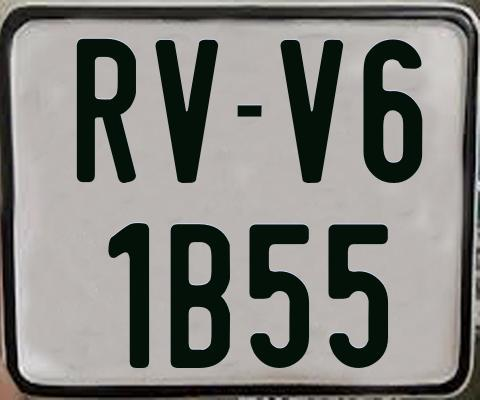1: (108, 221, 151, 368)
5: (325, 221, 391, 369), (246, 223, 306, 368)
6: (360, 36, 422, 183)
B: (167, 223, 230, 367)
R: (77, 36, 137, 183)
V: (279, 39, 345, 184), (152, 37, 217, 181)
